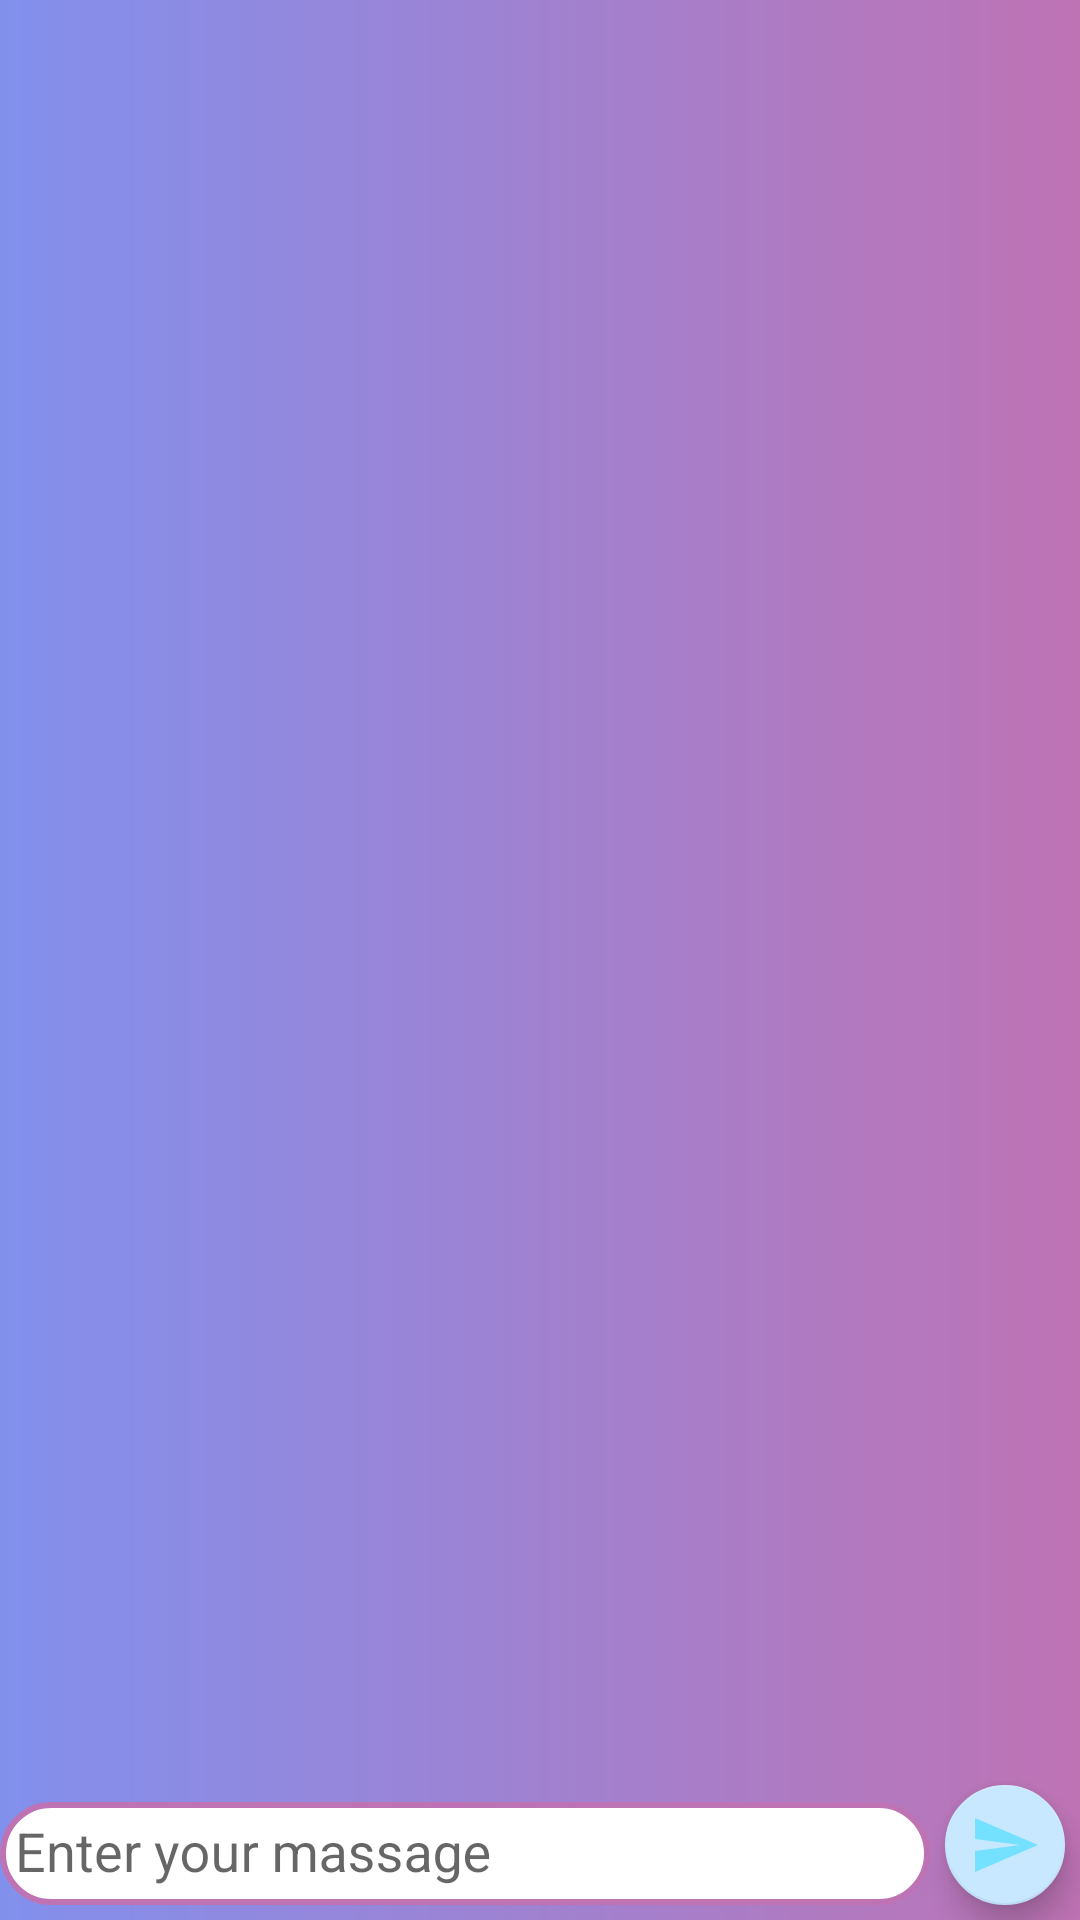

Named icons in this screenshot (1080w x 1920h) and their bounding boxes, bbox=(x1, y1, x2, y2):
sendbutton: bbox=(945, 1785, 1065, 1905)
